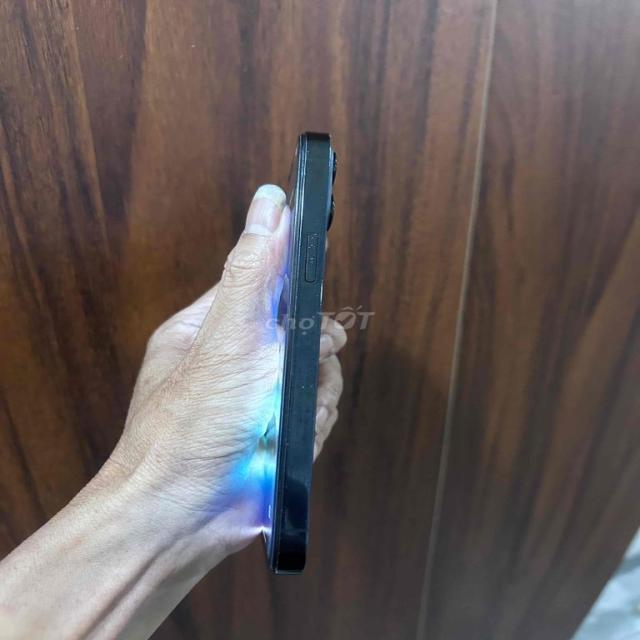scratch: (283, 368, 336, 470), (292, 194, 336, 300)
